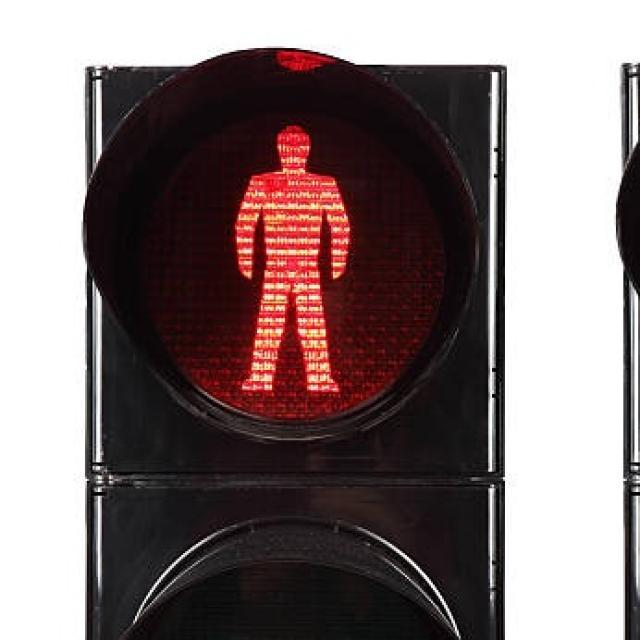red_light: (209, 100, 368, 403)
